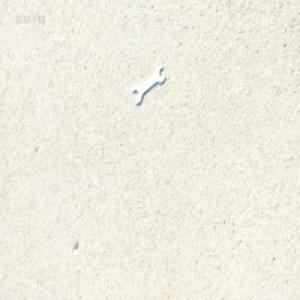Wrench: (133, 67, 166, 106)
